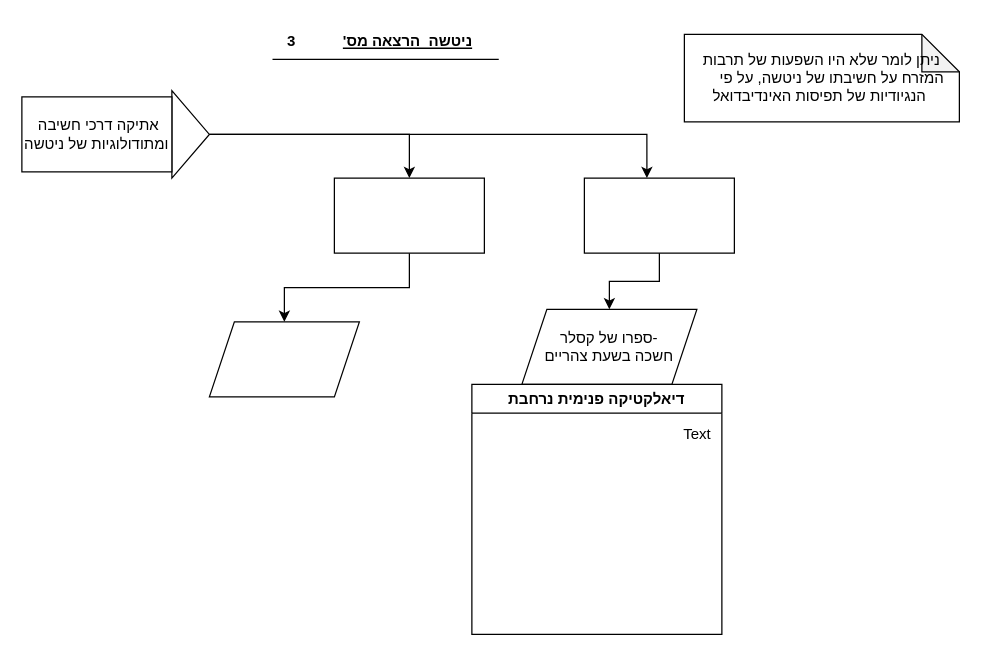
The diagram is 981 pixels wide and 656 high, and some of its shapes have lost their labels. The shapes that lost their labels are listed below. From the top down, each one's centre as x and y in pixels, then its label:
At (408,215): "אב האקזיסציליזם היידגר".
At (658,215): "מהפך מחשבתי קארל מרקס".
